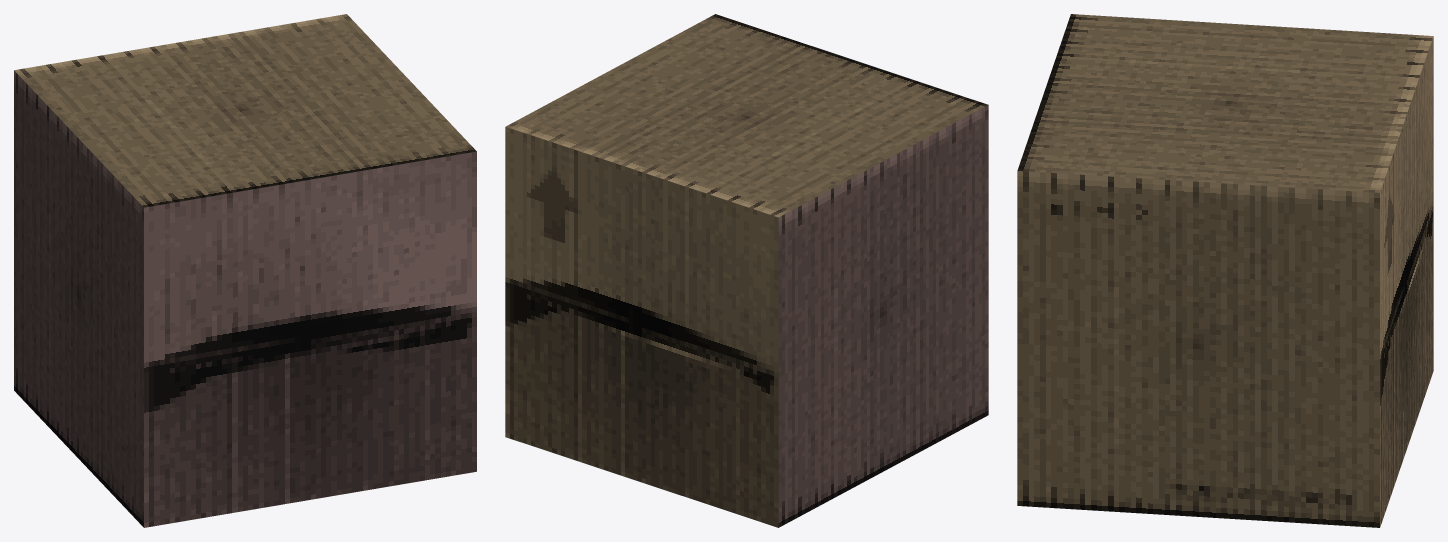
The model's file is primary_090.glb.
The picture shows the model from 3 angles, left to right: view 1: azimuth 30°, elevation 25°; view 2: azimuth 150°, elevation 25°; view 3: azimuth 270°, elevation 25°; orthographic projection. The views are drawn at different scales.
Visible parts, largest first — view 1: Object; view 2: Object; view 3: Object.
Boxes of the visible parts, x1,y1,x2,y2 form: Object: (14, 14, 476, 527); Object: (505, 14, 988, 527); Object: (1017, 14, 1433, 527).
Bounding box in the file's own units: 1.25 × 1.09 × 1.23.
7 materials, 7 textured.
